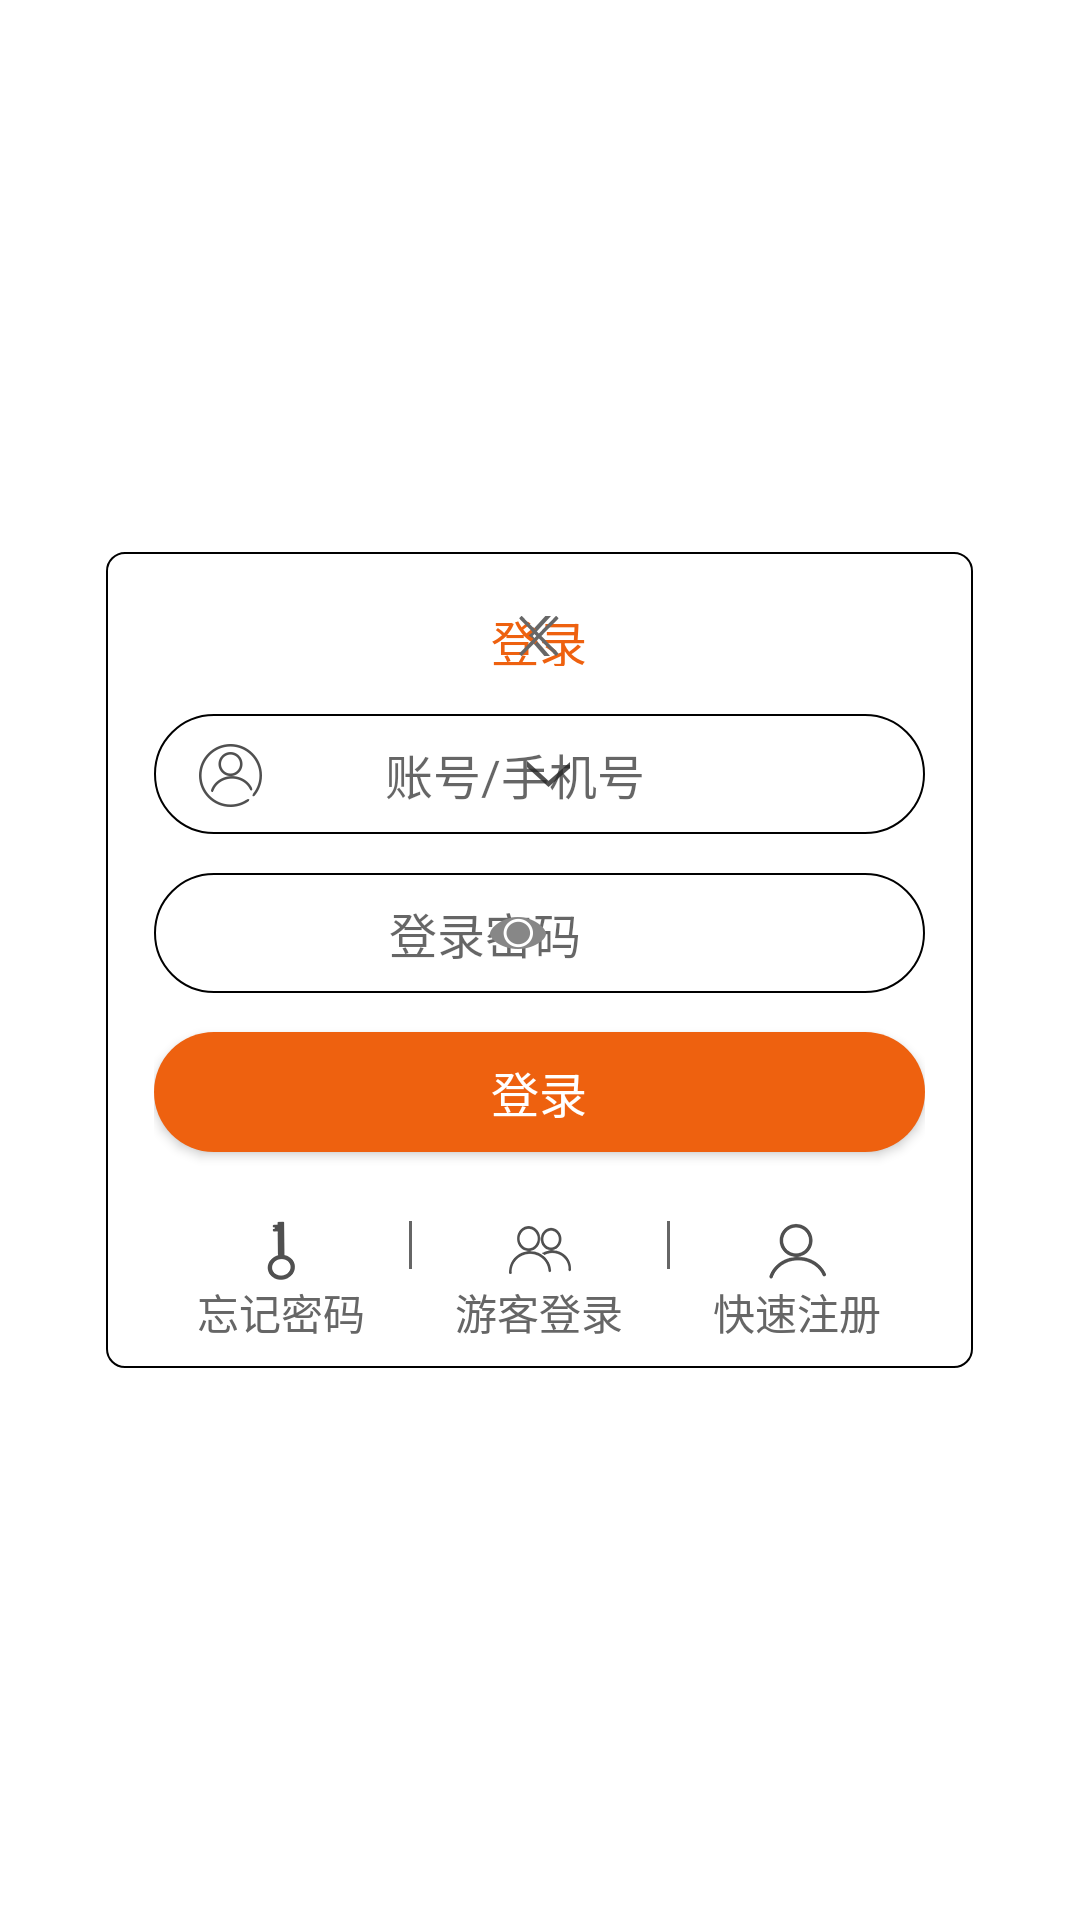

Screen size 1080px×1920px. Icon name, then its box in pixels as rect(x1, y1, x2, y2):
ui login user: rect(199, 744, 262, 807)
